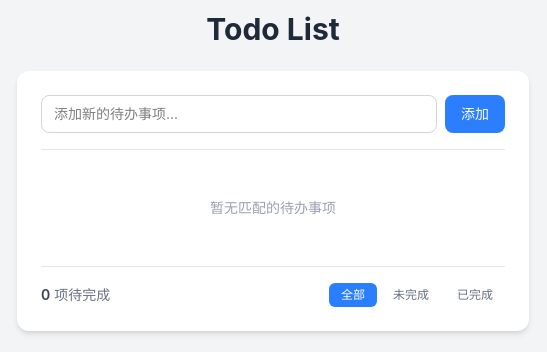
TodoApp Integration › should toggle todo and update counter
In the field: (239, 114) [41, 95, 437, 133], type "买牛奶"
Then press Enter
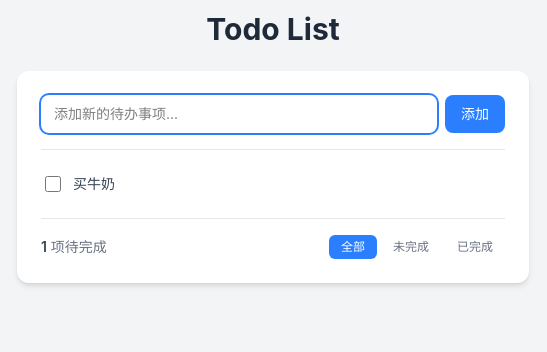
In the field: (239, 114) [41, 95, 437, 133], type "写周报"
Then press Enter
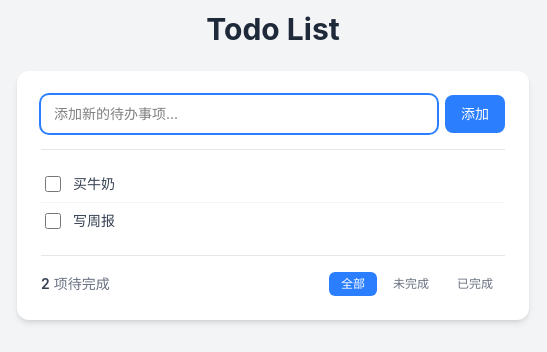
Click the 1st checkbox: (53, 184) [45, 176, 61, 192]
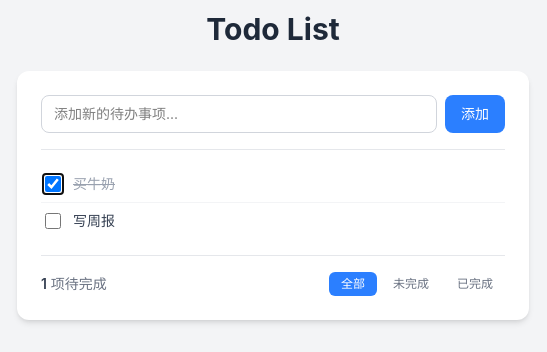
expect the text "1" is shown: met, box [41, 275, 47, 292]
